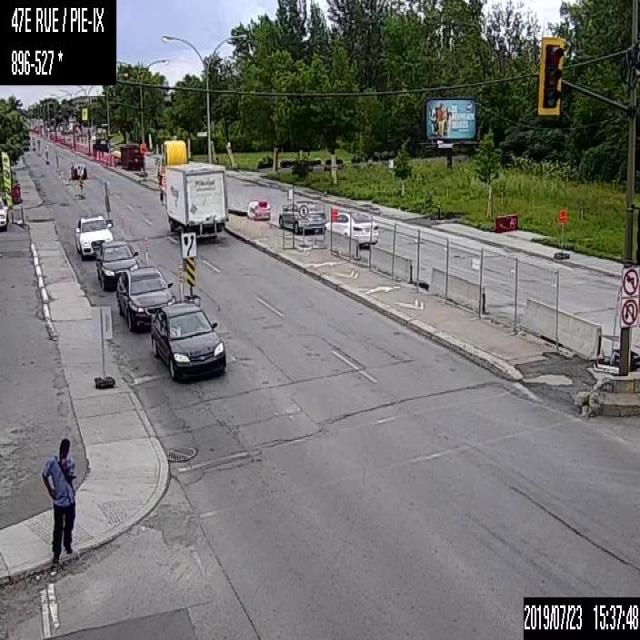construction: (554, 209, 569, 258), (177, 264, 183, 300), (144, 243, 148, 264), (120, 221, 124, 239), (99, 149, 102, 160), (111, 154, 114, 165), (107, 153, 110, 164), (105, 153, 108, 163)
pedestrian: (40, 435, 75, 564)
vehicle: (150, 300, 228, 380), (158, 159, 225, 241), (114, 266, 177, 333), (94, 237, 140, 291), (323, 211, 378, 244), (74, 214, 114, 259), (279, 199, 325, 232), (71, 162, 86, 179), (0, 195, 7, 229)
